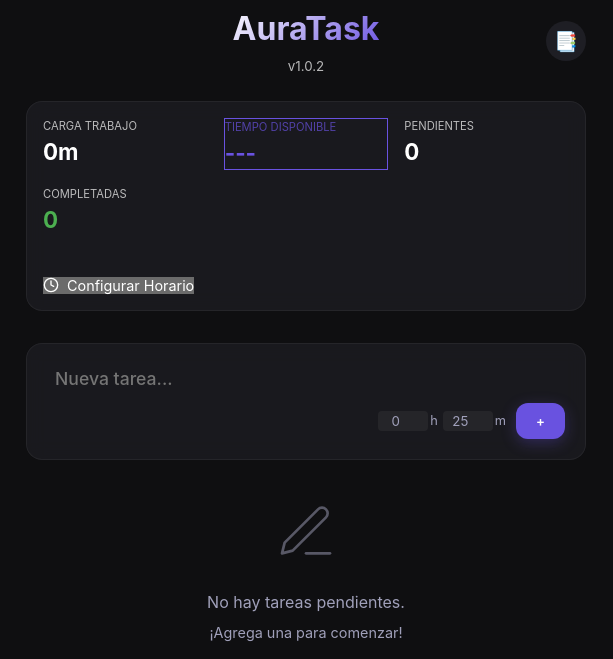
Test case: App Integration › should allow full lifecycle of a task
// Add Task
Type "Integration Task" into the field with placeholder "Nueva tarea...". click: (306, 378)
box: [47,364,565,393]
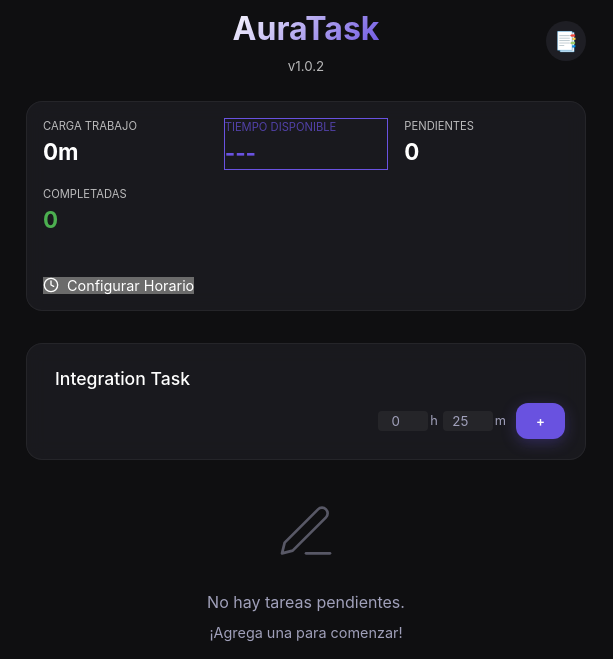
Click the button "+". click: (540, 421)
box: [516,403,565,439]
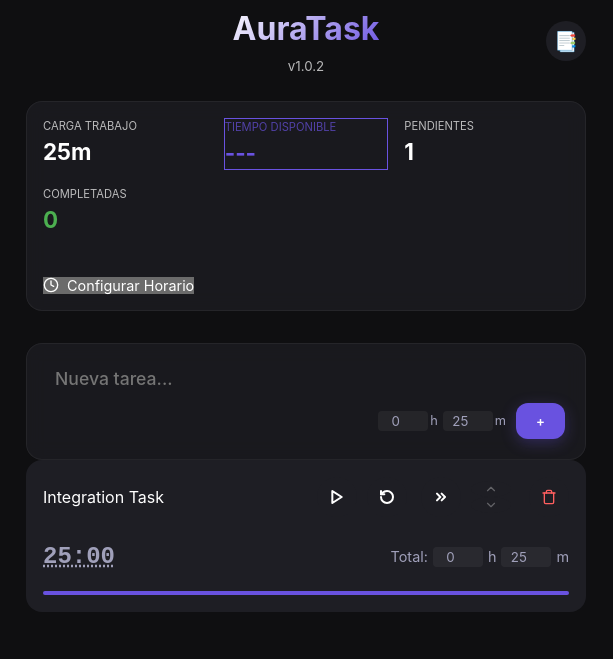
Result: the text "Integration Task" is shown at [43,485,164,509]
// Start Timer
Click the button titled "Iniciar". click: (337, 497)
box: [317,477,357,517]
Wait 1200 ms
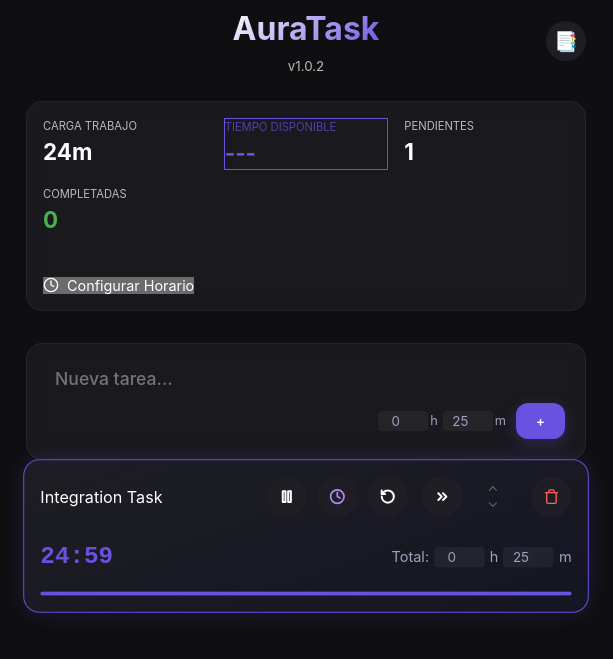
Result: the text "24:59" is shown at [40,539,113,575]
// 4. Pause
Click the button titled "Pausar". click: (287, 496)
box: [267,476,307,517]
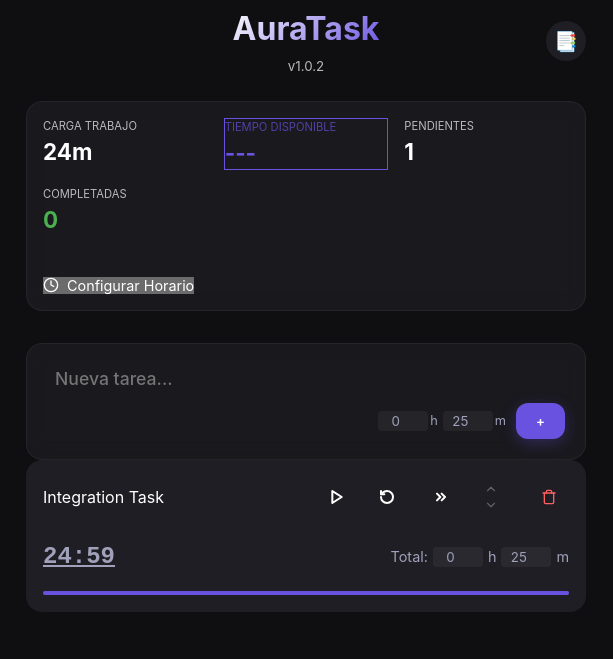
// 5. Delete
Click the button titled "Eliminar". click: (549, 497)
box: [529,477,569,517]
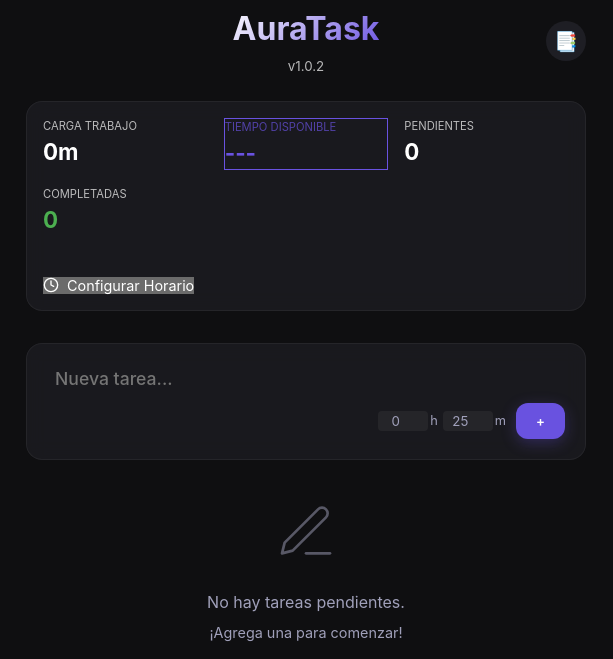
Result: the text "Integration Task" is gone
